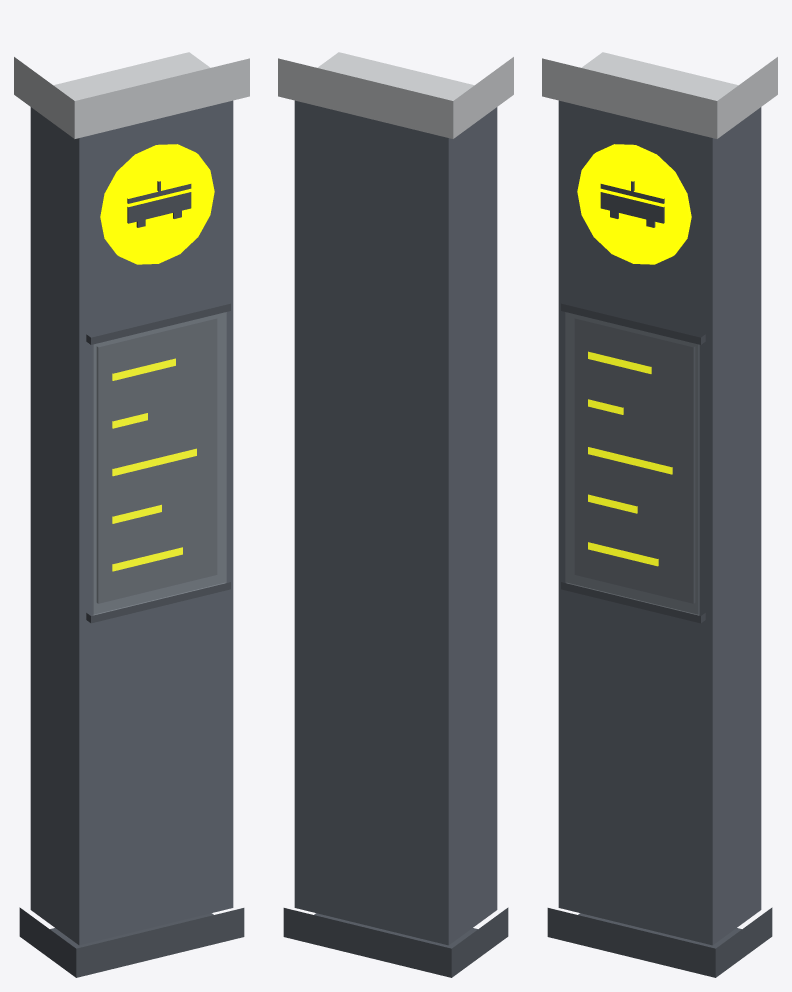
File: ext_stop_totem_01.glb
The picture shows the model from 3 angles, left to right: view 1: azimuth 30°, elevation 25°; view 2: azimuth 150°, elevation 25°; view 3: azimuth 330°, elevation 25°; orthographic projection.
Parts seen in each view (by area): view 1: Body, Timetable_Glass, Timetable_Plate, Cap, Roundel, Plinth, Timetable_Bars, Bezel, Tram_Glyph; view 2: Body, Cap, Plinth; view 3: Body, Timetable_Glass, Timetable_Plate, Cap, Roundel, Plinth, Timetable_Bars, Bezel, Tram_Glyph.
Boxes of the visible parts, <box> form: Body: <box>30,100,233,945</box>; Timetable_Glass: <box>92,312,226,615</box>; Timetable_Plate: <box>96,318,217,603</box>; Cap: <box>14,52,249,138</box>; Roundel: <box>100,144,214,264</box>; Plinth: <box>19,907,244,977</box>; Timetable_Bars: <box>112,358,196,571</box>; Bezel: <box>86,303,230,623</box>; Tram_Glyph: <box>127,181,191,227</box>; Body: <box>294,100,497,945</box>; Cap: <box>278,52,513,138</box>; Plinth: <box>283,907,508,977</box>; Body: <box>558,100,761,945</box>; Timetable_Glass: <box>565,312,699,615</box>; Timetable_Plate: <box>574,318,695,603</box>; Cap: <box>542,52,777,138</box>; Roundel: <box>577,144,691,264</box>; Plinth: <box>547,907,772,977</box>; Timetable_Bars: <box>588,351,672,566</box>; Bezel: <box>561,303,705,623</box>; Tram_Glyph: <box>600,181,664,227</box>.
Bounding box in the file's own units: 0.5 × 2.4 × 0.3.
